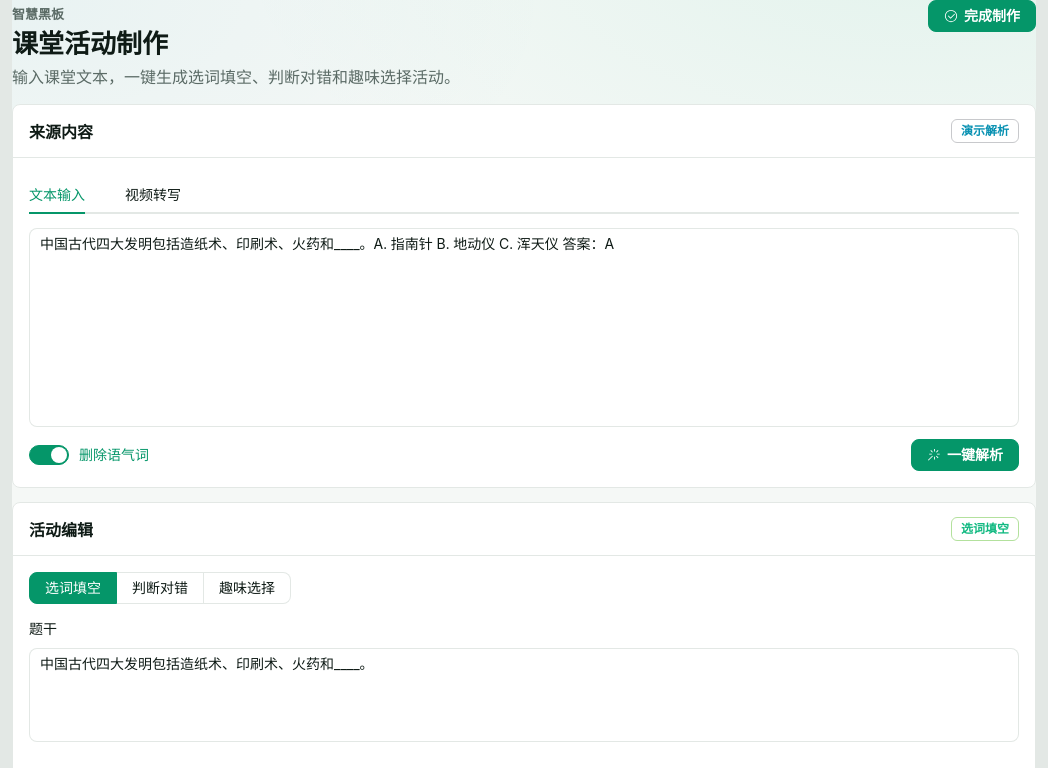
Test: SmartBlackboardView › updates preview when the teacher edits the generated stem
Replace the text in the text box with test id "blackboard-source-input" with "长江是中国第一长河。答案：长江" at coordinates (524, 328), box x1=29 y1=228 x2=1019 y2=427
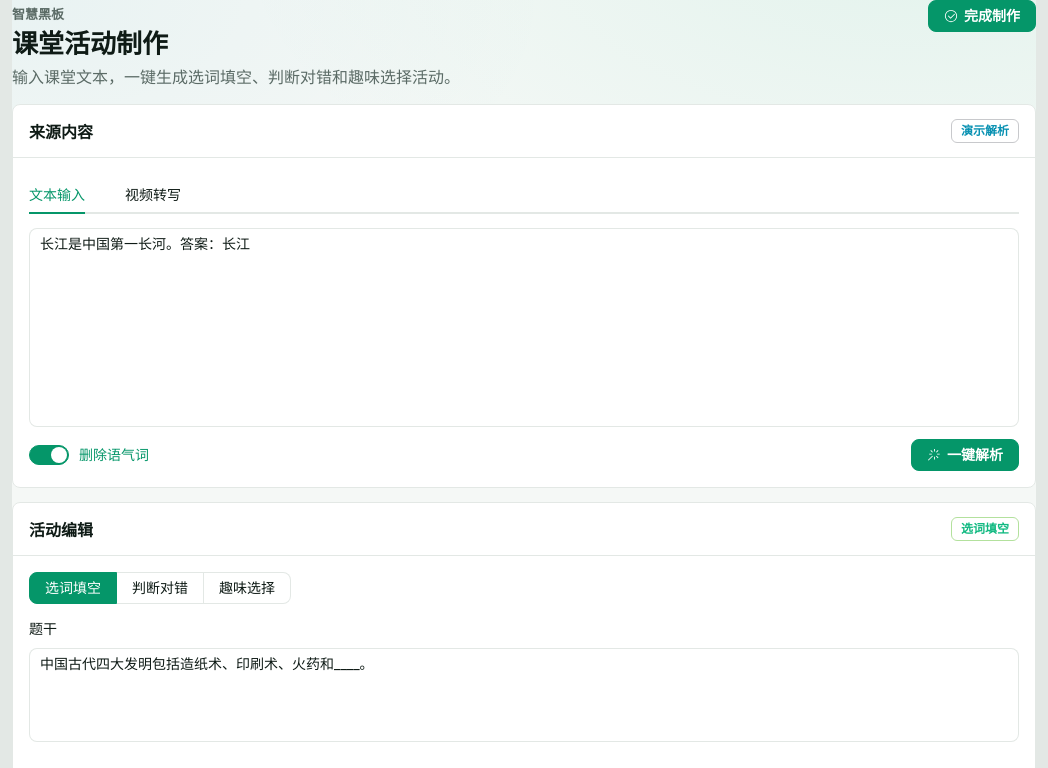
Click the button with test id "blackboard-parse-button" at coordinates (965, 455), box x1=911 y1=439 x2=1019 y2=471
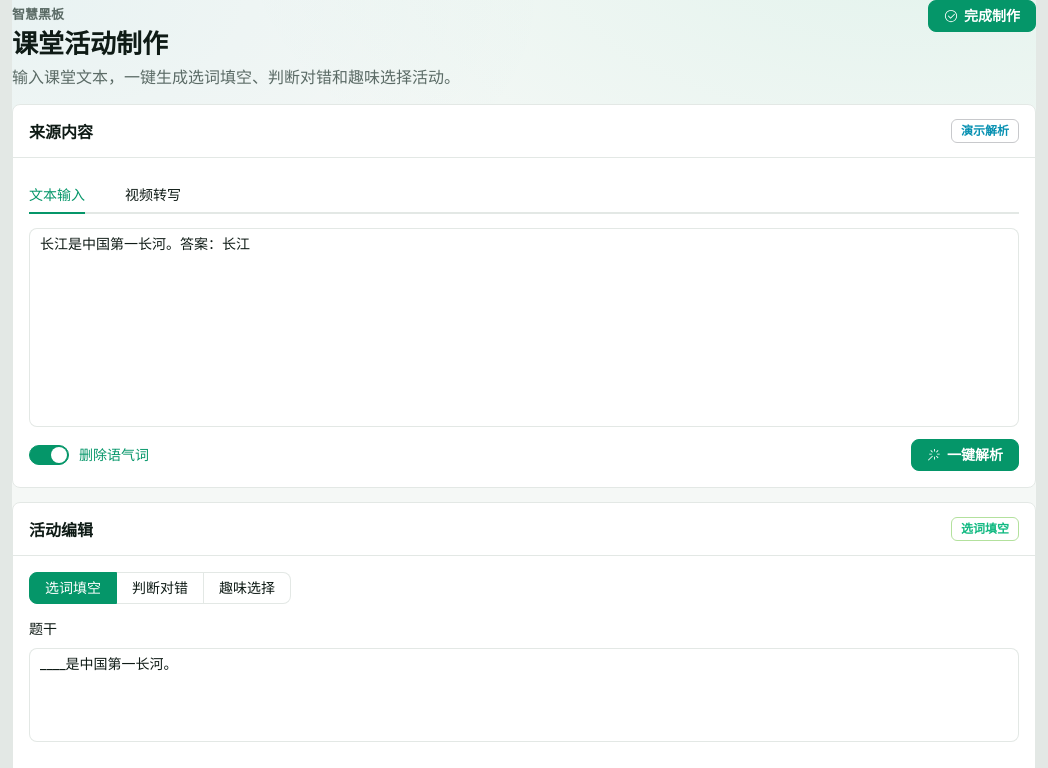
Replace the text in the text box with test id "blackboard-stem-input" with "中国第一长河是____。" at coordinates (524, 695), box x1=29 y1=648 x2=1019 y2=742
(page scrolled)
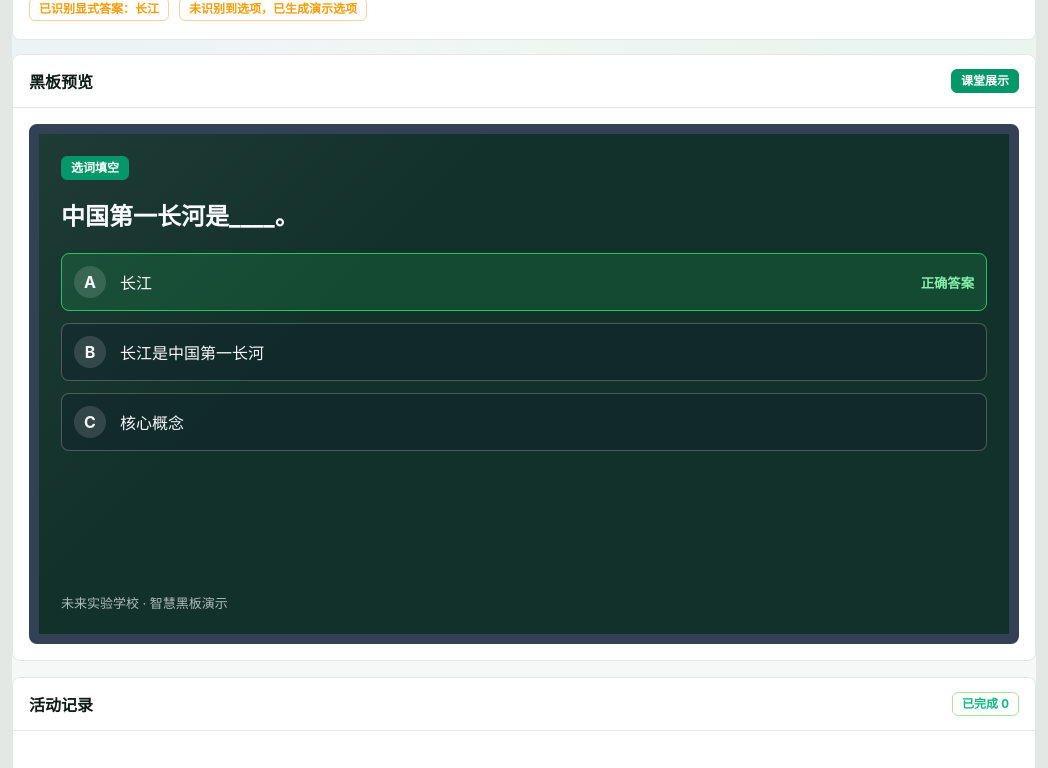
Expected: the element with test id "blackboard-preview" shows "中国第一长河是____。", x1=61 y1=202 x2=299 y2=231
